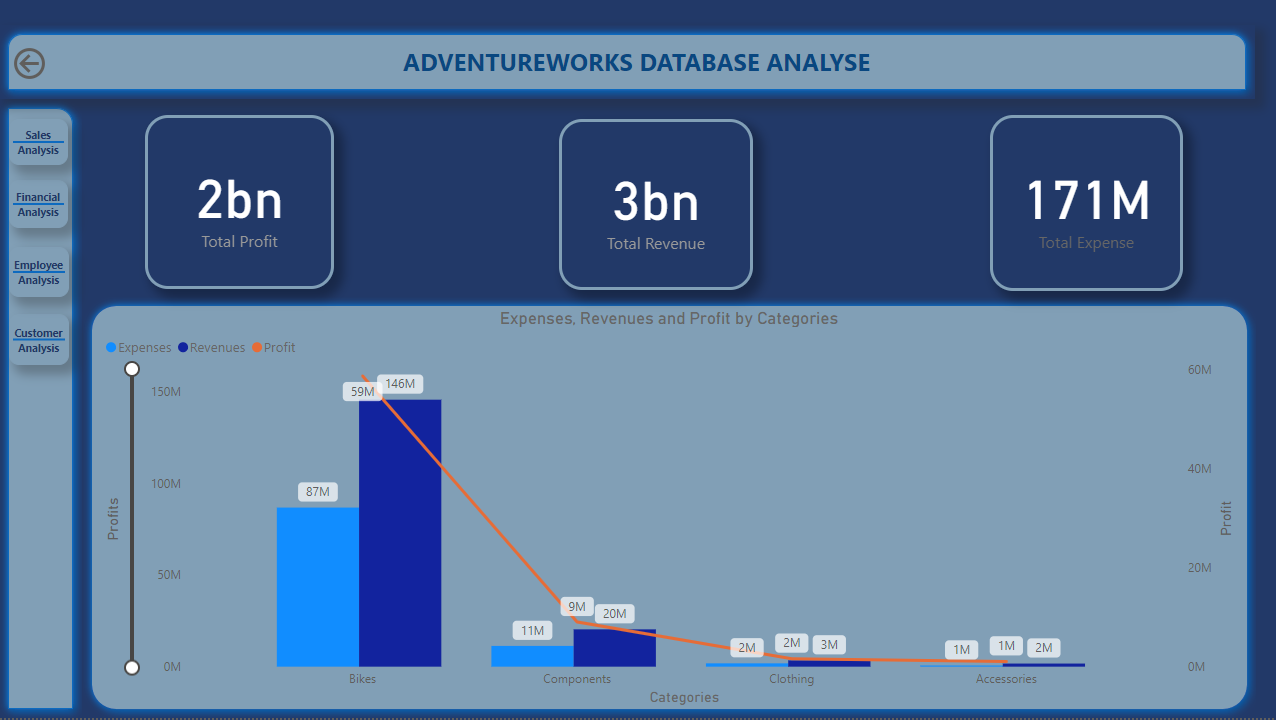

This screenshot's page, from the dashboard's own definition file:
{"tool":"powerbi","page":{"name":"FinancialAnalysis","canvas":[1280,720],"ordinal":1},"visuals":[{"type":"shape","box":[83.7,299,1173.1,421.2],"z":0},{"type":"lineClusteredColumnComboChart","title":"Expenses, Revenues and Profit by Categories","fields":{"Category":["KategorilerinKarOranları.name"],"Y":["Sum(KategorilerinKarOranları.expenses)","Sum(KategorilerinKarOranları.revenues)"],"Y2":["Sum(KategorilerinKarOranları.profit)"]},"box":[101,309.6,1138.5,401.9],"z":1000},{"type":"shape","box":[0,100.8,82.7,619.2],"z":2000},{"type":"shape","box":[0,26.9,1255.8,74],"z":3000},{"type":"textbox","box":[399,42.3,517.3,43.3],"z":4000},{"type":"actionButton","box":[9.6,45.2,100,40.4],"z":5000},{"type":"card","fields":{"Values":["Sum(ToplamGelirGiderKar.expenses)"]},"box":[991.1,116.7,192.6,176],"z":8000},{"type":"card","fields":{"Values":["Sum(ToplamGelirGiderKar.revenues)"]},"box":[560.2,120.6,193.6,171.2],"z":9000},{"type":"card","fields":{"Values":["Sum(ToplamGelirGiderKar.profit)"]},"box":[145.9,116.7,188.7,174.1],"z":10000},{"type":"shape","box":[9.7,316.1,60.3,50.6],"z":11000},{"type":"shape","box":[9.7,249,60.3,49.6],"z":12000},{"type":"shape","box":[9.7,181.9,59.3,47.7],"z":13000},{"type":"shape","box":[9.7,120.6,59.3,46.7],"z":14000}]}

Visuals, with their boxes in screenshot pixels (x1, y1, x2, y2), scaled from the page's 1280x720 canvas onto the 1276x720 screenshot:
shape: 83,299,1253,719
"Expenses, Revenues and Profit by Categories" lineClusteredColumnComboChart: 101,310,1236,712
shape: 0,101,82,719
shape: 0,27,1252,101
textbox: 398,42,913,86
actionButton: 10,45,109,86
card - Sum(ToplamGelirGiderKar.expenses): 988,117,1180,293
card - Sum(ToplamGelirGiderKar.revenues): 558,121,751,292
card - Sum(ToplamGelirGiderKar.profit): 145,117,334,291
shape: 10,316,70,367
shape: 10,249,70,299
shape: 10,182,69,230
shape: 10,121,69,167
